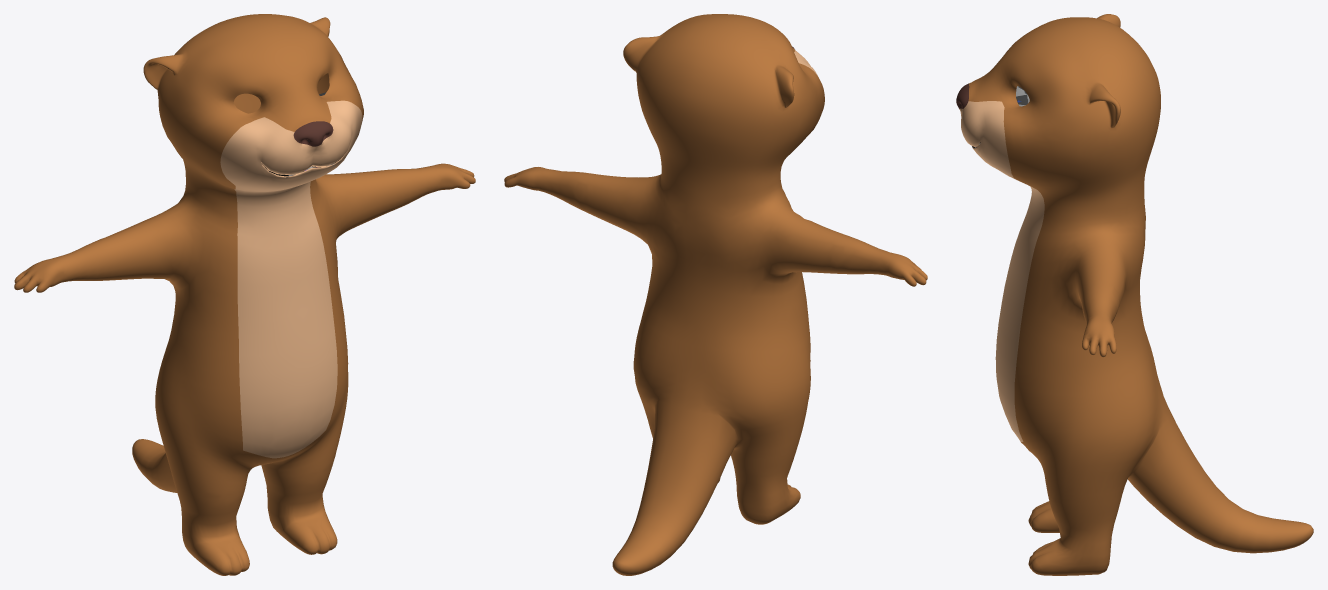
Rendered from fur02.glb.
3 views of the same model, side by side, from view 1: azimuth 30°, elevation 25°; view 2: azimuth 150°, elevation 25°; view 3: azimuth 270°, elevation 25° (orthographic). The views are drawn at different scales.
Parts seen in each view (by area): view 1: BuddyBlau_low; view 2: BuddyBlau_low; view 3: BuddyBlau_low.
Part boxes in pixels (x1=…): BuddyBlau_low: x1=14, y1=14, x2=475, y2=575; BuddyBlau_low: x1=504, y1=14, x2=927, y2=575; BuddyBlau_low: x1=956, y1=14, x2=1313, y2=575.
Bounding box in the file's own units: 1.52 × 1.66 × 1.03.
6 materials, 1 textured.
